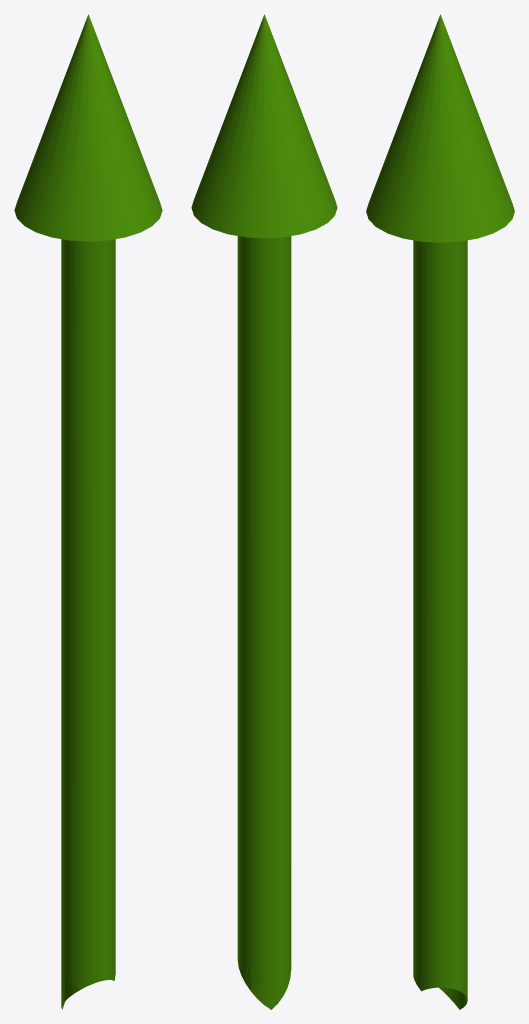
File: axis_arrow.obj
3 views of the same model, side by side, from view 1: azimuth 30°, elevation 25°; view 2: azimuth 150°, elevation 25°; view 3: azimuth 270°, elevation 25° (orthographic).
Visible parts, largest first — view 1: axis_arrow_g_2407-Color_F11; view 2: axis_arrow_g_2407-Color_F11; view 3: axis_arrow_g_2407-Color_F11.
Boxes of the visible parts, left/top/right/bottom form: axis_arrow_g_2407-Color_F11: left=14, top=14, right=162, bottom=1009; axis_arrow_g_2407-Color_F11: left=191, top=14, right=337, bottom=1009; axis_arrow_g_2407-Color_F11: left=366, top=14, right=514, bottom=1009.
Size of the model in its own units: 0.1154 by 0.8583 by 0.1154.
